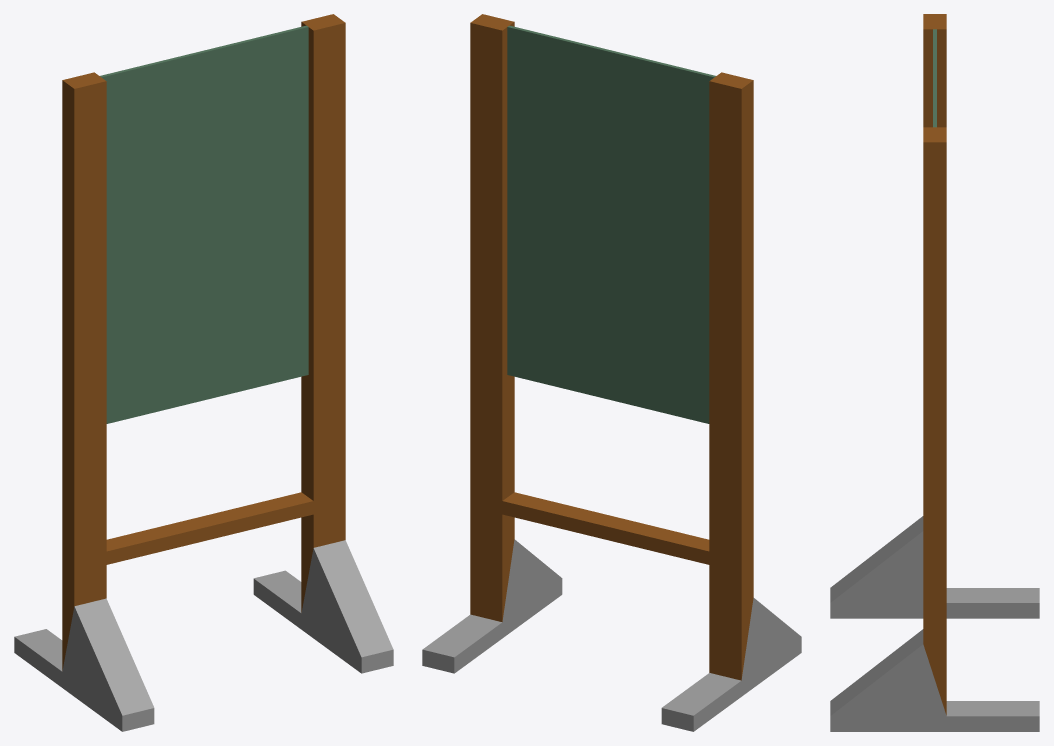
Rendered from ChalkboardB.fbx.
3 views of the same model, side by side, from view 1: azimuth 30°, elevation 25°; view 2: azimuth 150°, elevation 25°; view 3: azimuth 270°, elevation 25° (orthographic). The views are drawn at different scales.
Visible parts, largest first — view 1: ChalkBoardB; view 2: ChalkBoardB; view 3: ChalkBoardB.
Boxes of the visible parts, bbox=[...] form: ChalkBoardB: bbox=[14, 14, 393, 731]; ChalkBoardB: bbox=[422, 14, 801, 731]; ChalkBoardB: bbox=[830, 14, 1039, 731].
Bounding box in the file's own units: 57.17 × 122 × 39.44.
1 material, 1 textured.
